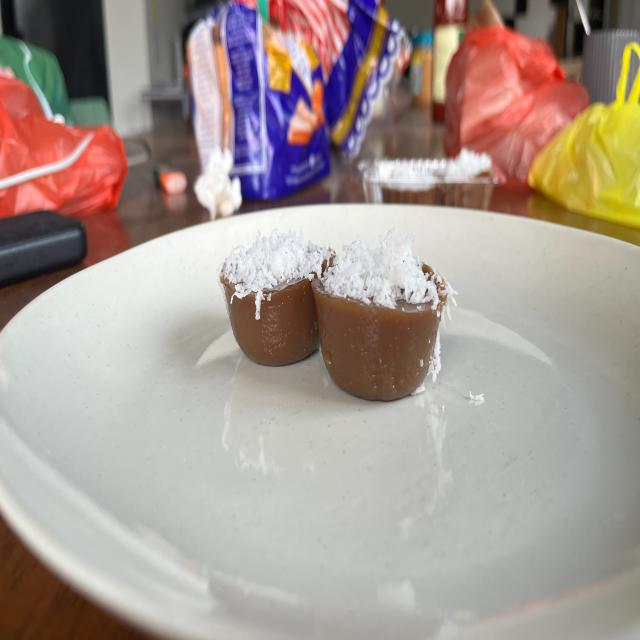Kuih lompang: (312, 231, 455, 400), (219, 229, 334, 364)
